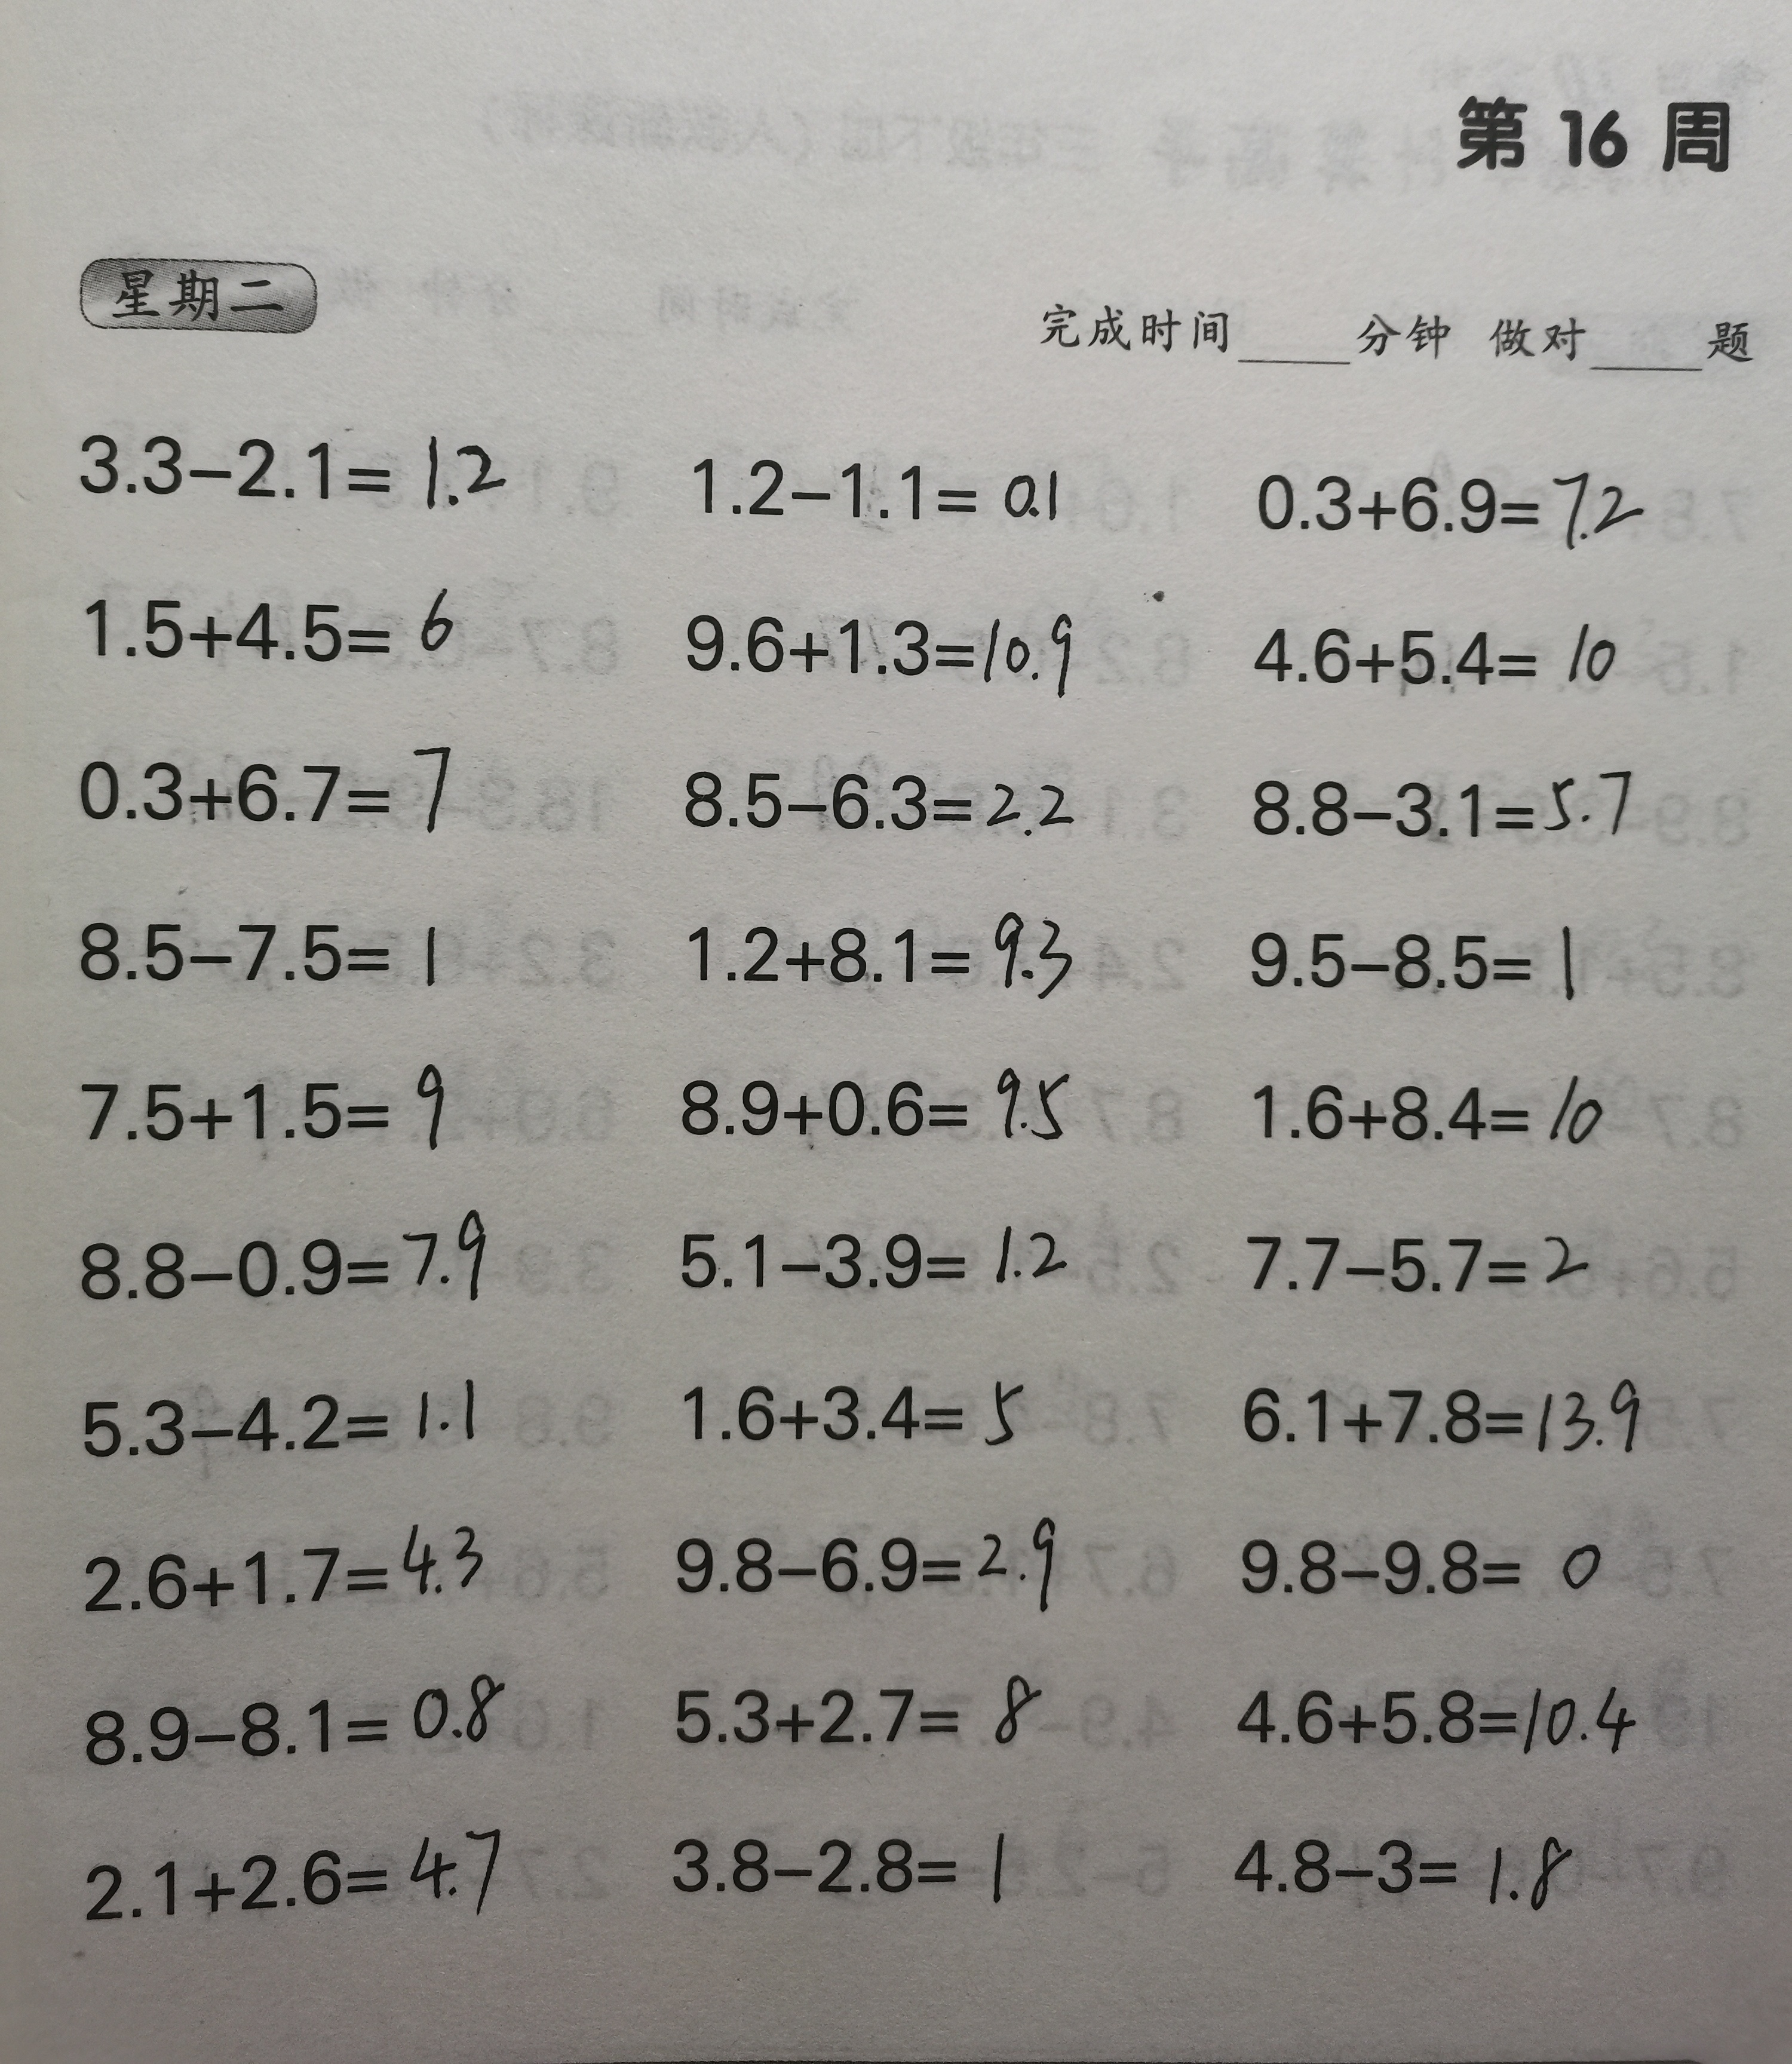equation: (1202, 1348, 1685, 1469), (58, 1813, 516, 1939), (649, 1648, 1051, 1788), (637, 1501, 1081, 1622), (65, 1504, 513, 1623), (37, 1365, 518, 1474), (665, 414, 1074, 541), (61, 721, 479, 844), (65, 1660, 528, 1771), (1250, 434, 1666, 556), (1243, 737, 1666, 856), (662, 1195, 1106, 1308), (649, 1048, 1090, 1160), (56, 419, 521, 525), (665, 583, 1085, 699), (1222, 1655, 1674, 1762), (1218, 1806, 1602, 1931), (63, 1202, 514, 1308), (1227, 899, 1599, 1025), (674, 890, 1090, 1002), (1229, 1051, 1636, 1164), (63, 1044, 470, 1153), (1227, 1511, 1659, 1613), (63, 574, 486, 677), (665, 1350, 1034, 1467), (1227, 598, 1638, 702), (642, 1817, 1034, 1918), (1225, 1204, 1609, 1308), (672, 746, 1093, 839), (61, 897, 451, 993)
